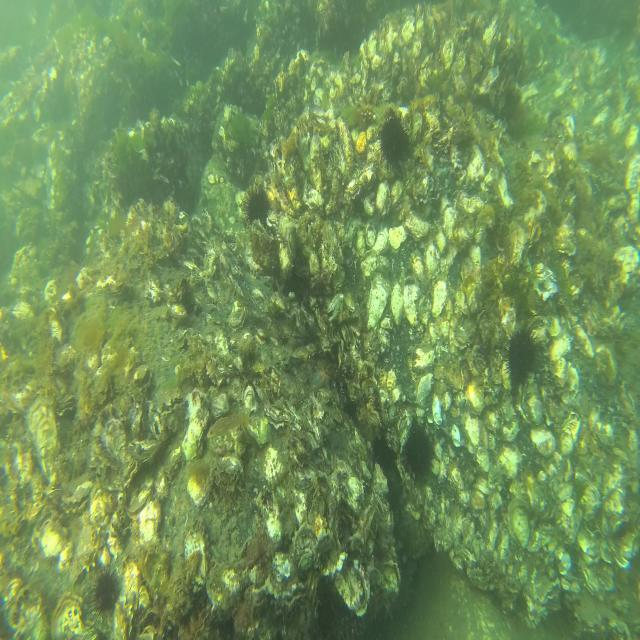echinus: (506, 329, 540, 393), (378, 113, 410, 169), (406, 425, 436, 483), (92, 571, 120, 616), (246, 188, 272, 230)
starfish: (311, 367, 333, 394)
